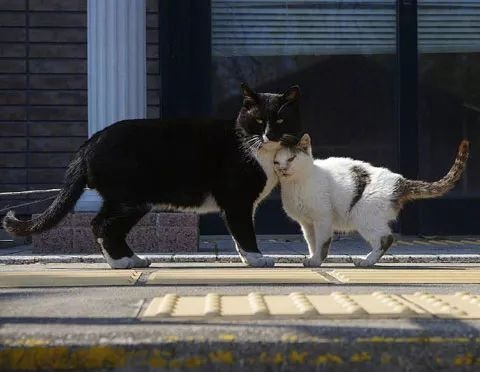cat: (3, 83, 302, 268), (274, 133, 469, 268)
